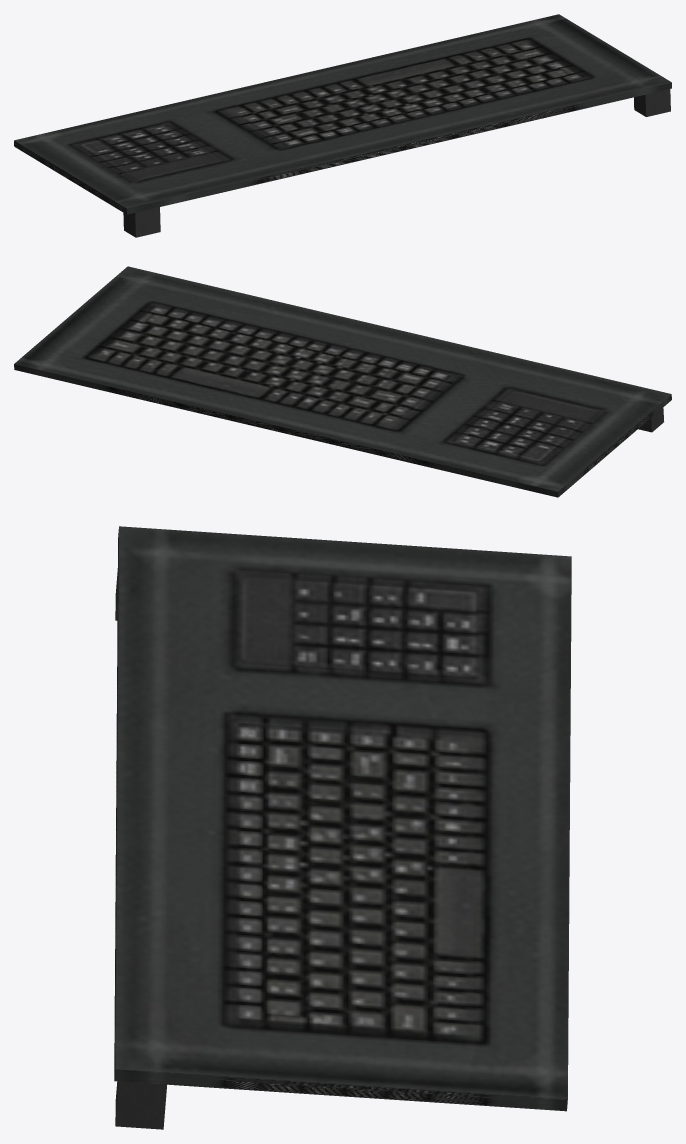
The model's file is computer_keyboard_7474b283.glb.
3 renders of one model, top to bottom at view 1: azimuth 30°, elevation 25°; view 2: azimuth 150°, elevation 25°; view 3: azimuth 270°, elevation 25°, orthographic. The views are drawn at different scales.
Parts seen in each view (by area): view 1: Object_2, Object_4, Object_3; view 2: Object_2; view 3: Object_2, Object_3.
Part boxes in pixels (box(x1,y1,x2,y2)): Object_2: box(14, 14, 671, 214); Object_4: box(123, 207, 160, 237); Object_3: box(634, 89, 670, 116); Object_2: box(14, 266, 671, 497); Object_2: box(114, 526, 571, 1111); Object_3: box(115, 1081, 166, 1129).
Size of the model in its own units: 0.2892 by 0.0185 by 0.1052.
3 materials, 3 textured.
